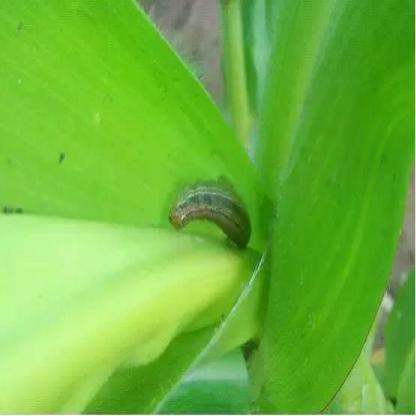armyworm: (167, 174, 254, 264)
